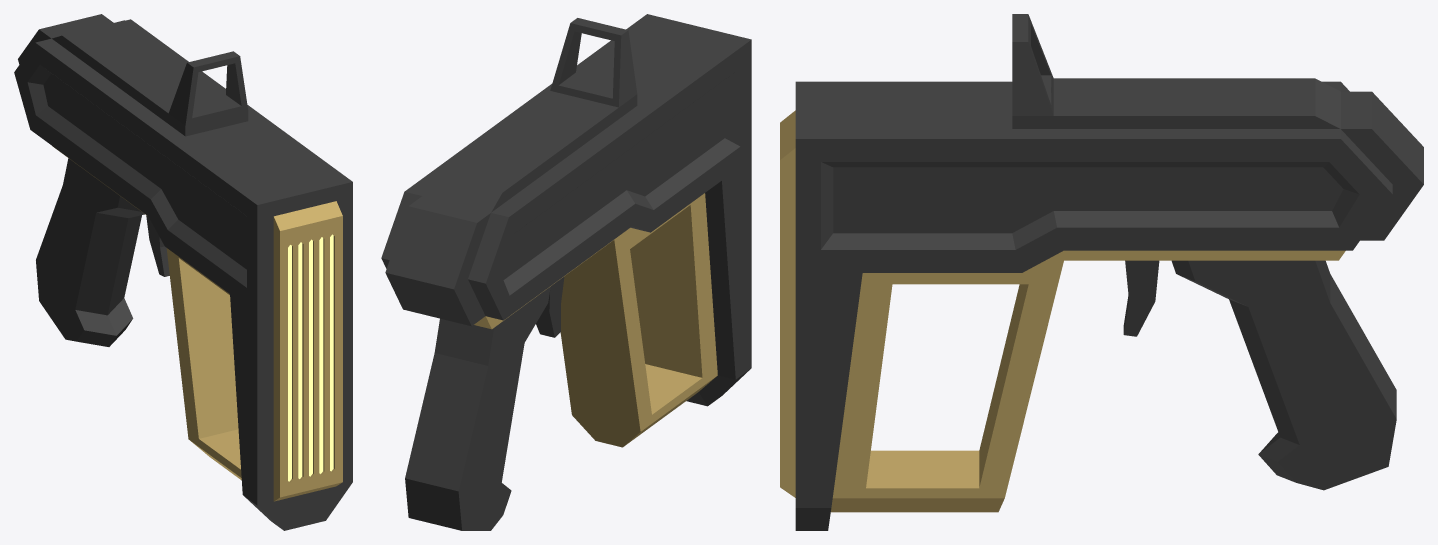
The model's file is FlatGun.fbx.
3 views of the same model, side by side, from view 1: azimuth 30°, elevation 25°; view 2: azimuth 150°, elevation 25°; view 3: azimuth 270°, elevation 25° (orthographic). The views are drawn at different scales.
Visible parts, largest first — view 1: FlatGun; view 2: FlatGun; view 3: FlatGun.
Boxes of the visible parts, x1=… form: FlatGun: x1=14, y1=14, x2=352, y2=530; FlatGun: x1=381, y1=14, x2=751, y2=530; FlatGun: x1=780, y1=14, x2=1423, y2=530.
Size of the model in its own units: 58.97 by 236 by 280.
